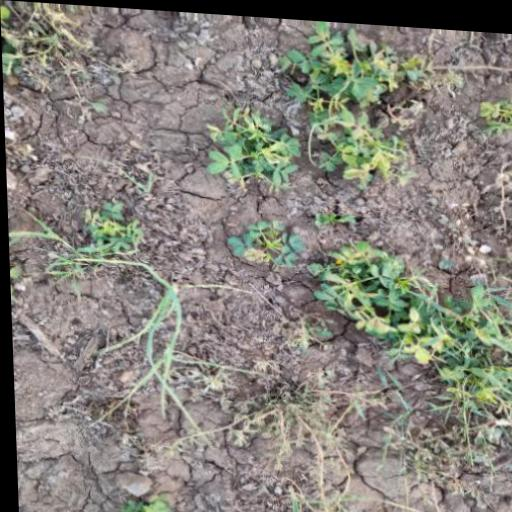weed: (45, 186, 208, 418), (199, 32, 429, 192), (317, 244, 512, 429)
